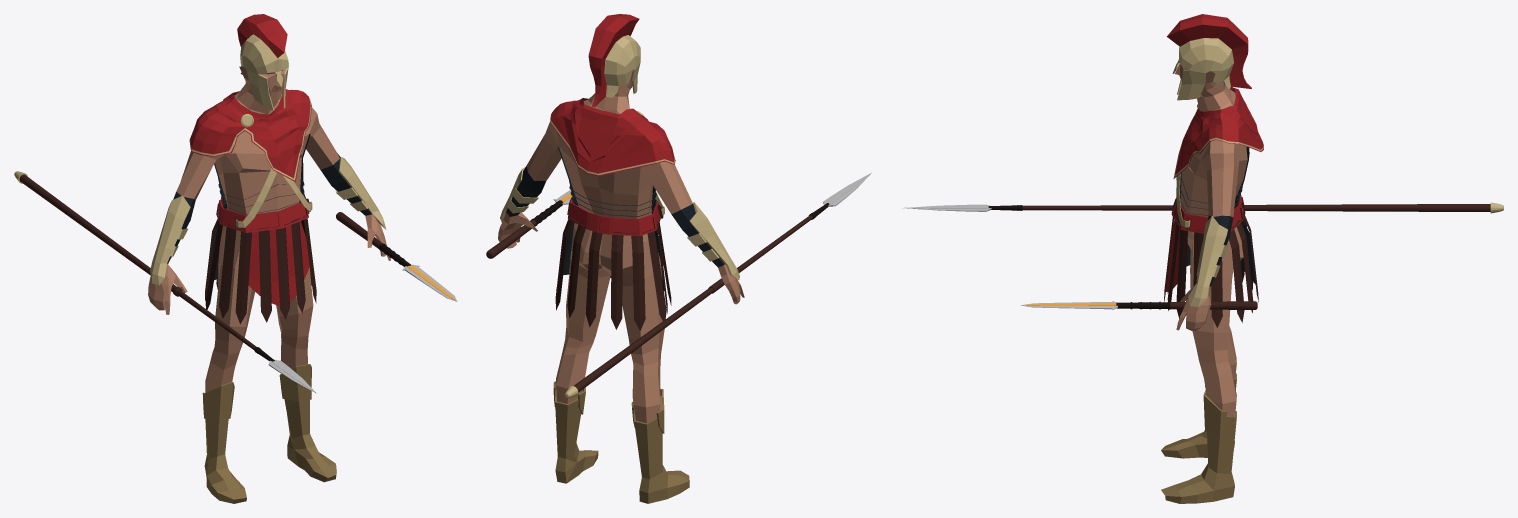
Rendered from low-poly_roman_soldier.glb.
The picture shows the model from 3 angles, left to right: view 1: azimuth 30°, elevation 25°; view 2: azimuth 150°, elevation 25°; view 3: azimuth 270°, elevation 25°; orthographic projection.
Parts seen in each view (by area): view 1: Base_0, Kit.002_9, Plane.011_12, Boots_4, Boots.001_5, Right _13, helmet_6, Kit.001_8, Base.001_1, Belt_3, Left_11, Base.002_2 (+2 smaller); view 2: Base_0, Kit.002_9, Plane.011_12, Boots_4, Right _13, Boots.001_5, Belt_3, helmet_6, Base.001_1, Kit_7, Left_11, Base.002_2; view 3: Base_0, Boots.001_5, Right _13, Plane.011_12, Kit.002_9, helmet_6, Base.002_2, Left_11, Boots_4, Belt_3, Kit_7.
Boxes of the visible parts, left/top/right/bottom form: Base_0: left=148, top=14, right=390, bottom=392; Kit.002_9: left=189, top=89, right=311, bottom=181; Plane.011_12: left=205, top=216, right=316, bottom=324; Boots_4: left=202, top=382, right=246, bottom=503; Boots.001_5: left=279, top=364, right=336, bottom=482; Right _13: left=14, top=171, right=316, bottom=393; helmet_6: left=240, top=34, right=288, bottom=110; Kit.001_8: left=248, top=221, right=309, bottom=306; Base.001_1: left=150, top=195, right=190, bottom=285; Belt_3: left=216, top=193, right=310, bottom=232; Left_11: left=336, top=212, right=457, bottom=301; Base.002_2: left=335, top=157, right=386, bottom=229; Base_0: left=498, top=14, right=744, bottom=423; Kit.002_9: left=550, top=98, right=675, bottom=176; Plane.011_12: left=555, top=218, right=671, bottom=330; Boots_4: left=631, top=388, right=689, bottom=503; Right _13: left=564, top=172, right=871, bottom=398; Boots.001_5: left=553, top=381, right=598, bottom=483; Belt_3: left=567, top=197, right=663, bottom=236; helmet_6: left=604, top=35, right=640, bottom=97; Base.001_1: left=687, top=202, right=739, bottom=280; Kit_7: left=557, top=146, right=664, bottom=290; Left_11: left=486, top=189, right=572, bottom=258; Base.002_2: left=500, top=167, right=538, bottom=222; Base_0: left=1167, top=14, right=1251, bottom=416; Boots.001_5: left=1161, top=390, right=1236, bottom=503; Right _13: left=902, top=202, right=1503, bottom=213; Plane.011_12: left=1164, top=204, right=1258, bottom=327; Kit.002_9: left=1173, top=86, right=1263, bottom=178; helmet_6: left=1172, top=38, right=1233, bottom=100; Base.002_2: left=1188, top=216, right=1228, bottom=307; Left_11: left=1020, top=301, right=1257, bottom=309; Boots_4: left=1161, top=373, right=1236, bottom=458; Belt_3: left=1171, top=195, right=1245, bottom=233; Kit_7: left=1180, top=89, right=1255, bottom=284.
Bounding box in the file's own units: 1.96 × 3.65 × 4.36.
